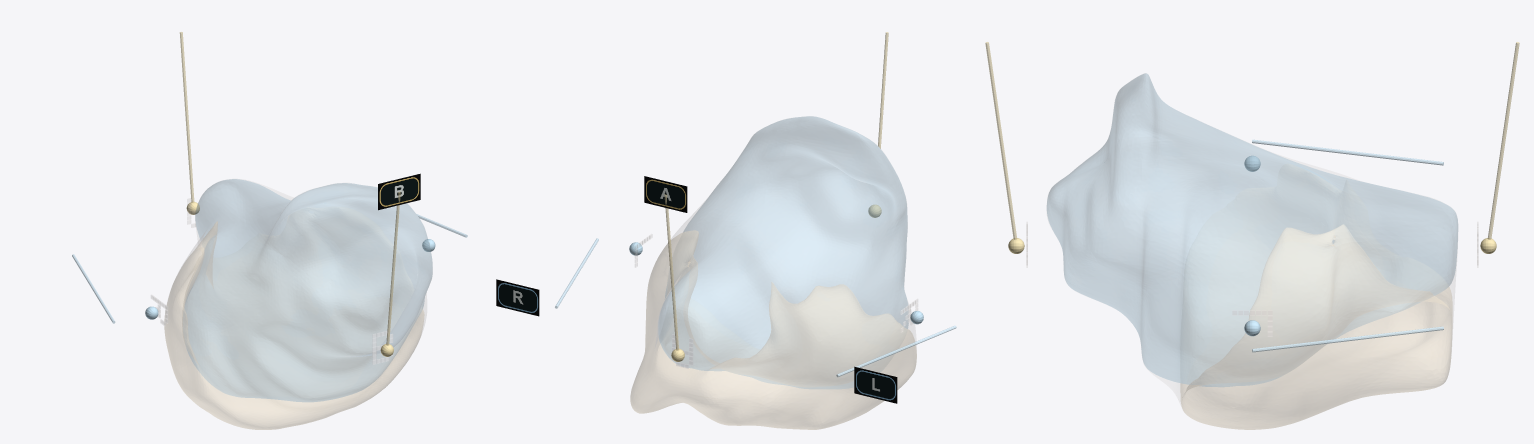
The picture shows the model from 3 angles, left to right: view 1: azimuth 30°, elevation 25°; view 2: azimuth 150°, elevation 25°; view 3: azimuth 270°, elevation 25°; orthographic projection. The views are drawn at different scales.
Parts seen in each view (by area): view 1: transition_zone, prostate_gland, peripheral_zone, orientation_B_base_label, orientation_A_apex_leader, orientation_B_base_leader; view 2: prostate_gland, transition_zone, peripheral_zone, orientation_L_patient_left_label, orientation_A_apex_label, orientation_R_patient_right_label, orientation_A_apex_leader, orientation_L_patient_left_leader, orientation_B_base_leader; view 3: transition_zone, prostate_gland, peripheral_zone, orientation_A_apex_leader, orientation_B_base_leader, orientation_L_patient_left_leader, orientation_R_patient_right_leader.
Boxes of the visible parts, <box> form: transition_zone: <box>183,179,432,401</box>; prostate_gland: <box>165,179,432,429</box>; peripheral_zone: <box>164,215,424,429</box>; orientation_B_base_label: <box>378,173,420,210</box>; orientation_A_apex_leader: <box>179,32,194,202</box>; orientation_B_base_leader: <box>386,191,400,345</box>; prostate_gland: <box>631,116,916,429</box>; transition_zone: <box>658,116,908,388</box>; peripheral_zone: <box>630,230,916,429</box>; orientation_L_patient_left_label: <box>854,366,897,403</box>; orientation_A_apex_label: <box>644,176,687,212</box>; orientation_R_patient_right_label: <box>496,279,539,316</box>; orientation_A_apex_leader: <box>664,194,679,350</box>; orientation_L_patient_left_leader: <box>836,325,956,377</box>; orientation_B_base_leader: <box>878,32,888,148</box>; transition_zone: <box>1047,73,1457,386</box>; prostate_gland: <box>1047,73,1457,429</box>; peripheral_zone: <box>1180,224,1452,429</box>; orientation_A_apex_leader: <box>1487,42,1519,239</box>; orientation_B_base_leader: <box>985,42,1017,239</box>; orientation_L_patient_left_leader: <box>1252,139,1443,165</box>; orientation_R_patient_right_leader: <box>1252,326,1443,352</box>.
Bounding box in the file's own units: 0.0805 × 0.0599 × 0.0775.
Materials: 12 (4 with a texture image).
